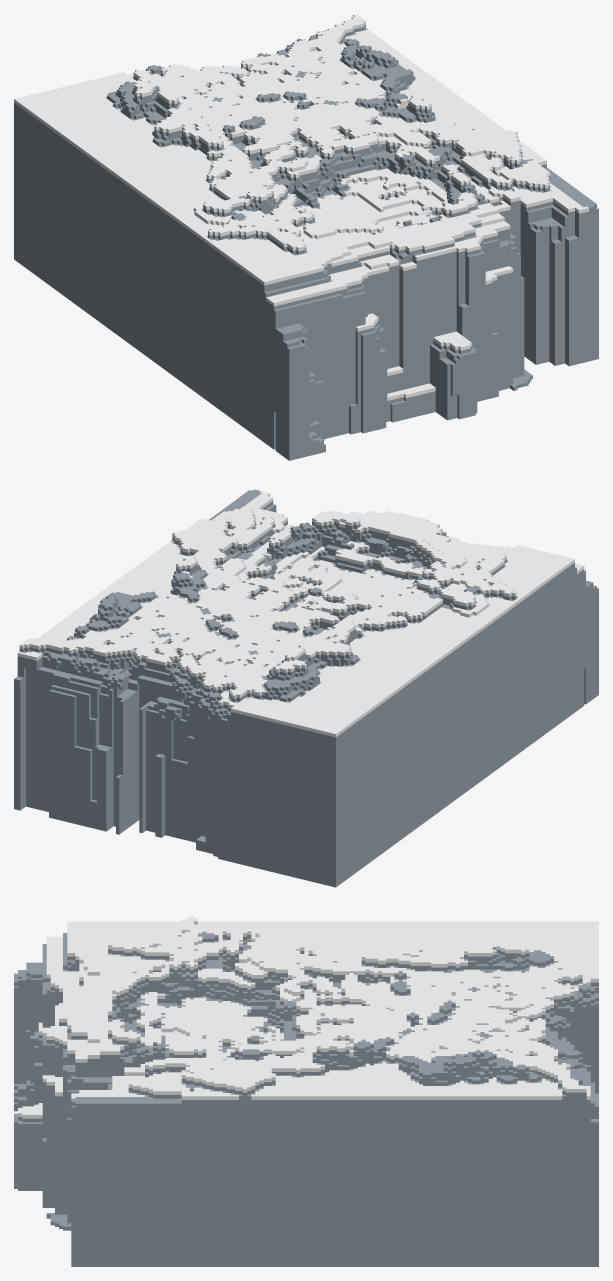
Rendered from factory4.1-7.obj.
3 renders of one model, top to bottom at view 1: azimuth 30°, elevation 25°; view 2: azimuth 150°, elevation 25°; view 3: azimuth 270°, elevation 25°, orthographic. The views are drawn at different scales.
Size of the model in its own units: 10.1 by 5.2 by 14.3.
Materials: 1 (1 with a texture image).
